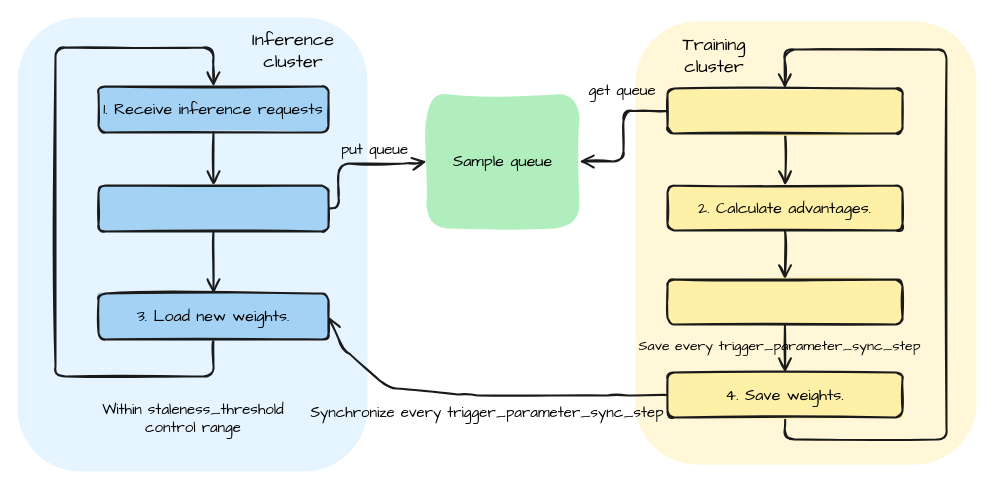
The diagram is 993 pixels wide and 488 high, and some of its shapes have lost their labels. Each missing label, with the centre of its shape:
"1. Retrieve rollout data." belongs at [784,110].
"2. Generate rollout data." belongs at [213,208].
"3. Update the model." belongs at [784,301].
